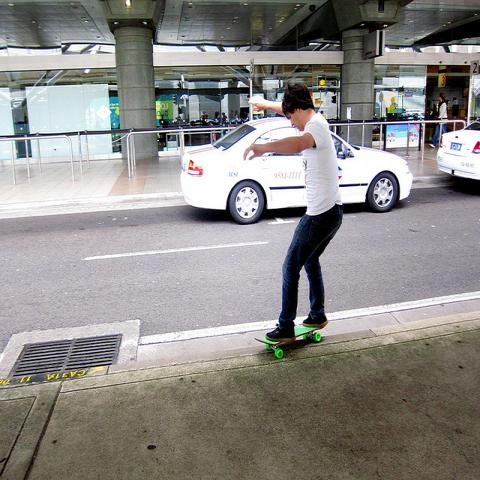car: (180, 116, 414, 221), (438, 124, 479, 180)
